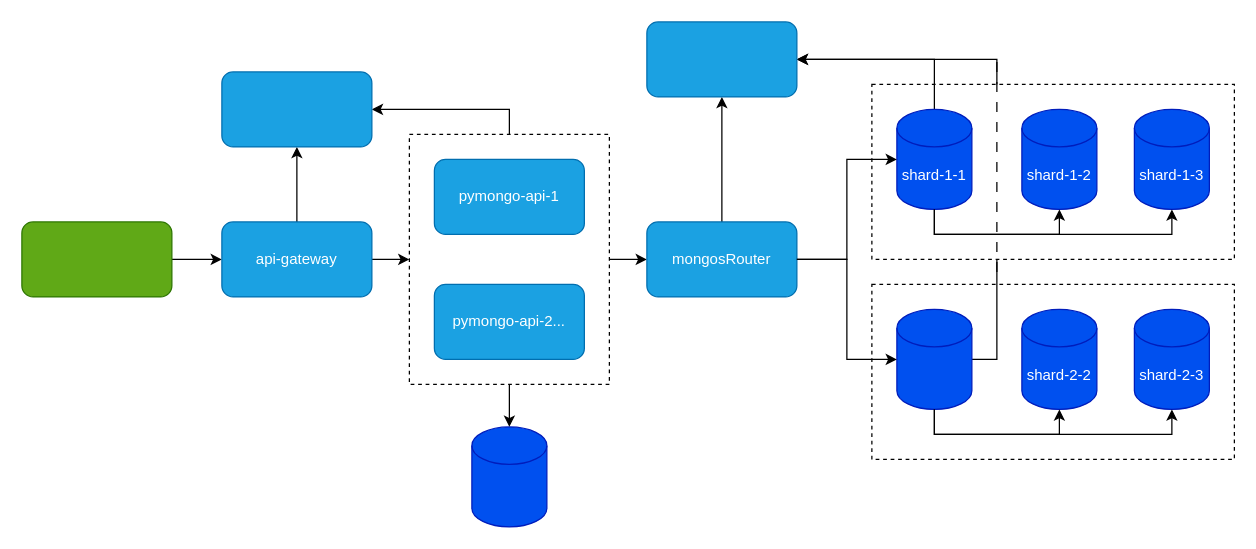
The diagram is 1256 pixels wide and 549 high, and some of its shapes have lost their labels. Each missing label, with the centre of its shape:
configSrv: the point at 721,59
consul: the point at 296,109
redis: the point at 509,476
shard-2-1: the point at 934,358
Приложение: the point at 96,259
